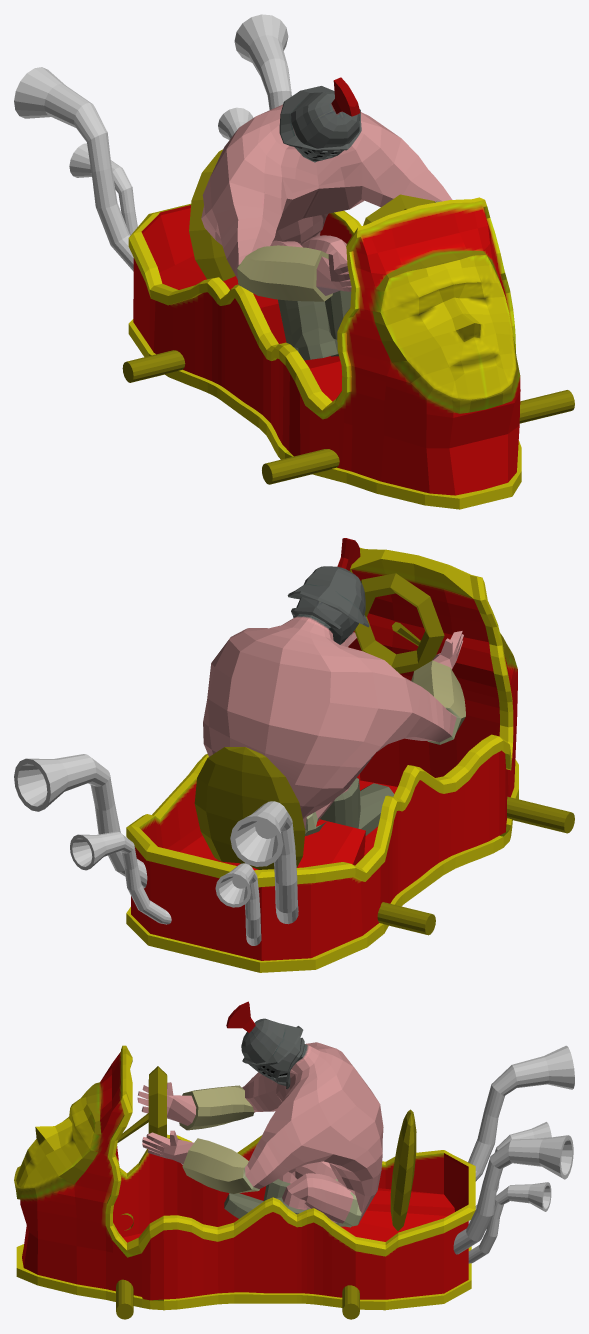
File: GladiGiroDer_000539.obj
3 renders of one model, top to bottom at view 1: azimuth 30°, elevation 25°; view 2: azimuth 150°, elevation 25°; view 3: azimuth 270°, elevation 25°, orthographic. The views are drawn at different scales.
Parts seen in each view (by area): view 1: GladiChasis_GladiChasisH, Gadiador_Gladiador_H, GladiTubos_GladiTubosH, GladiVolante_GladiVolanteH; view 2: GladiChasis_GladiChasisH, Gadiador_Gladiador_H, GladiTubos_GladiTubosH, GladiVolante_GladiVolanteH; view 3: GladiChasis_GladiChasisH, Gadiador_Gladiador_H, GladiTubos_GladiTubosH, GladiVolante_GladiVolanteH.
Part boxes in pixels (box(x1,y1,x2,y2)): GladiChasis_GladiChasisH: box(128, 197, 521, 509); Gadiador_Gladiador_H: box(201, 77, 452, 360); GladiTubos_GladiTubosH: box(14, 14, 291, 271); GladiVolante_GladiVolanteH: box(122, 149, 574, 484); GladiChasis_GladiChasisH: box(126, 547, 518, 972); Gadiador_Gladiador_H: box(203, 538, 465, 835); GladiTubos_GladiTubosH: box(14, 754, 298, 945); GladiVolante_GladiVolanteH: box(194, 573, 574, 935); GladiChasis_GladiChasisH: box(14, 1045, 475, 1310); Gadiador_Gladiador_H: box(137, 1001, 383, 1227); GladiTubos_GladiTubosH: box(453, 1045, 574, 1263); GladiVolante_GladiVolanteH: box(116, 1066, 416, 1319).
Bounding box in the file's own units: 5.46 × 5.55 × 10.78.
